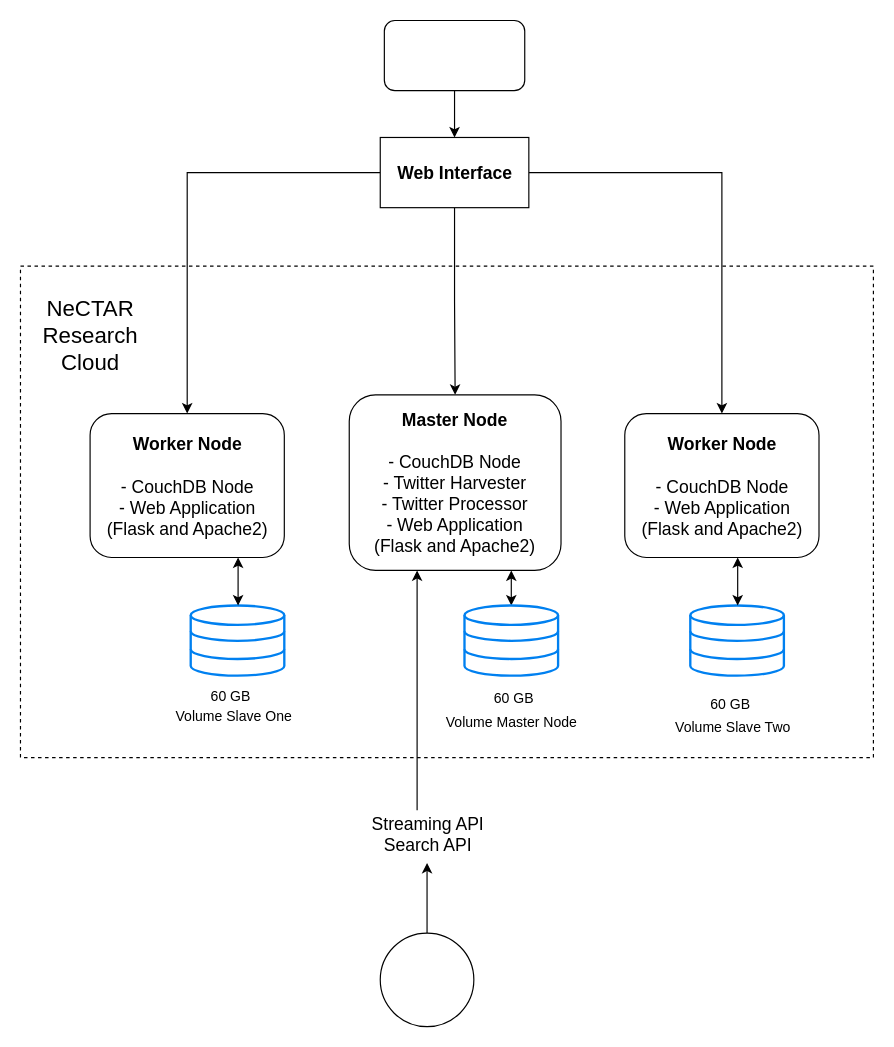
Some shapes in this 894 by 1047 pixel diagram are drawn without their labels. The box of each missing label's shape, as (x1, y1, x2, y2) in pixels:
Client: (383, 19, 525, 91)
Twitter: (379, 932, 474, 1027)
